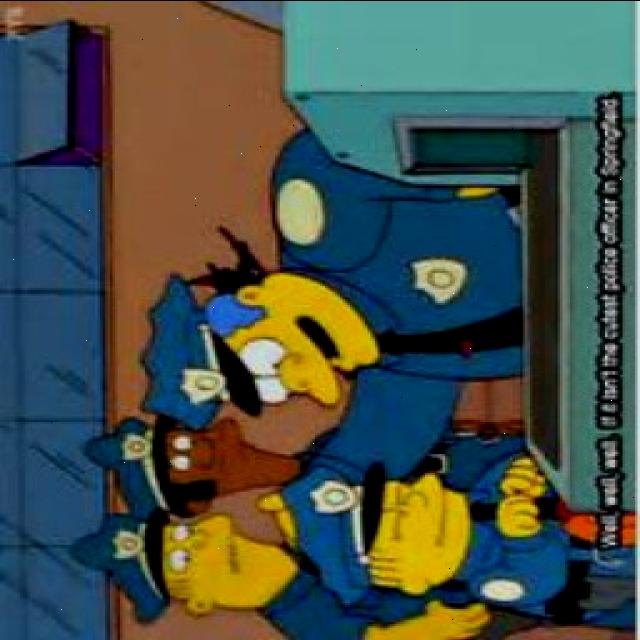Chief Wiggam: (139, 269, 381, 437)
